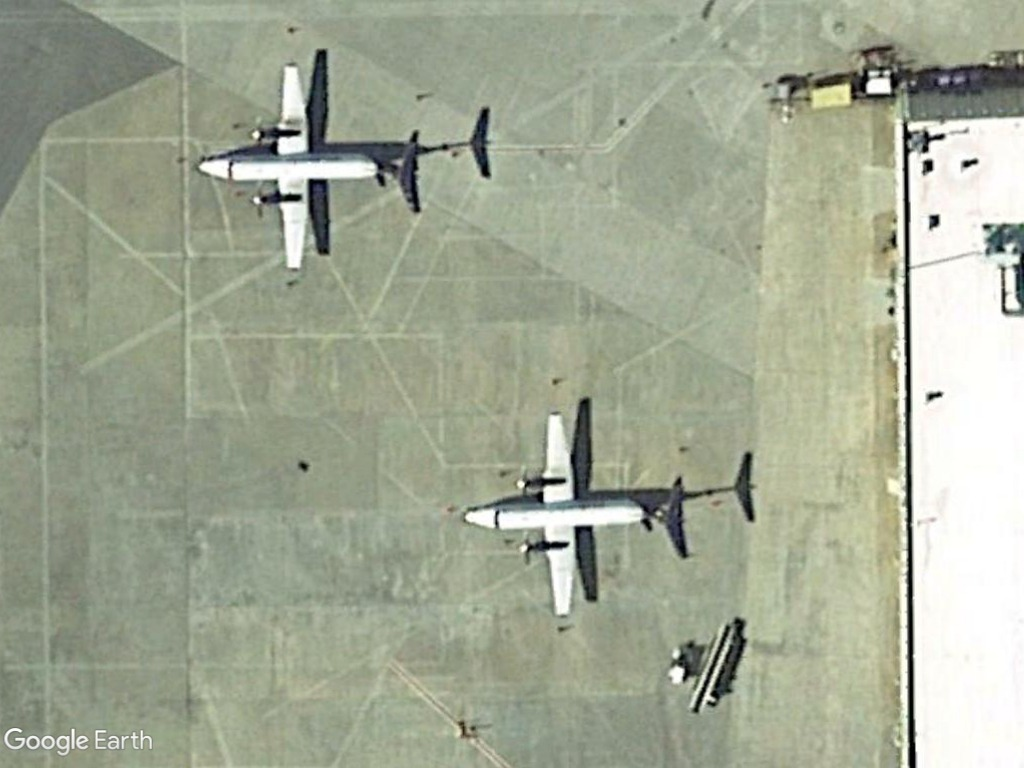propeller: (456, 403, 695, 628), (190, 62, 437, 277)
